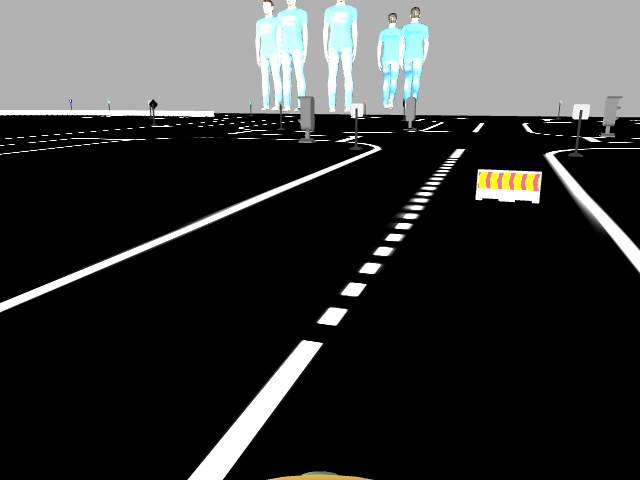ClosedRoadStand: (478, 169, 540, 200)
